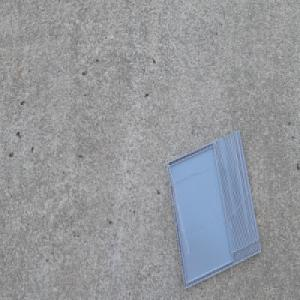PlasticPart: (165, 128, 262, 288)
